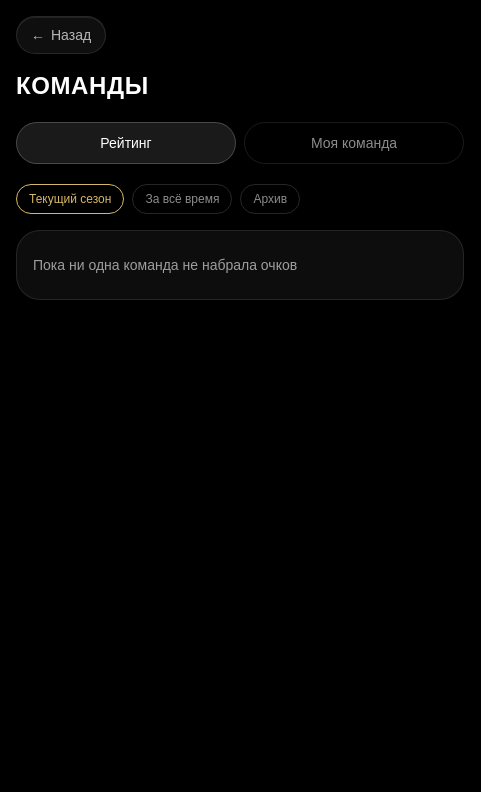
Test: Teams -- Моя команда tab, has a team › captain team-photo editing inside 'Изменить команду' › 3. existing avatar => shows 'Изменить фото' + 'Удалить фото'
Step 1. Click the button "Моя команда" → [354, 143], box x1=244 y1=122 x2=464 y2=164
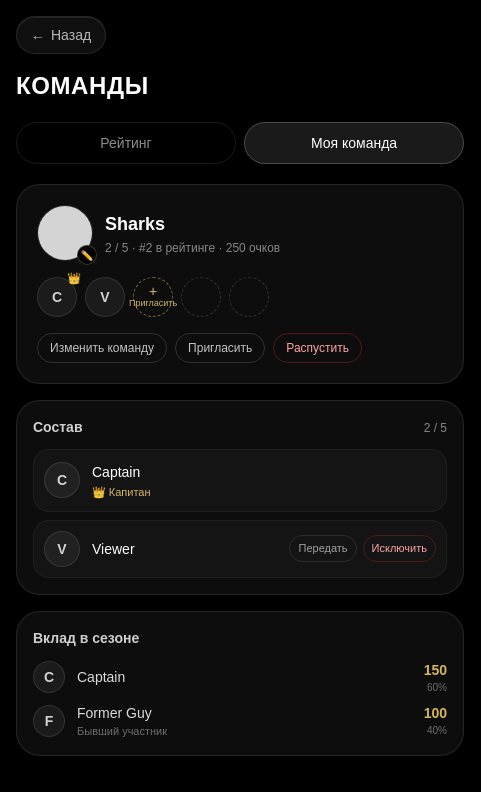
Step 2. Click the button "Изменить команду" → [102, 348], box x1=37 y1=333 x2=167 y2=363
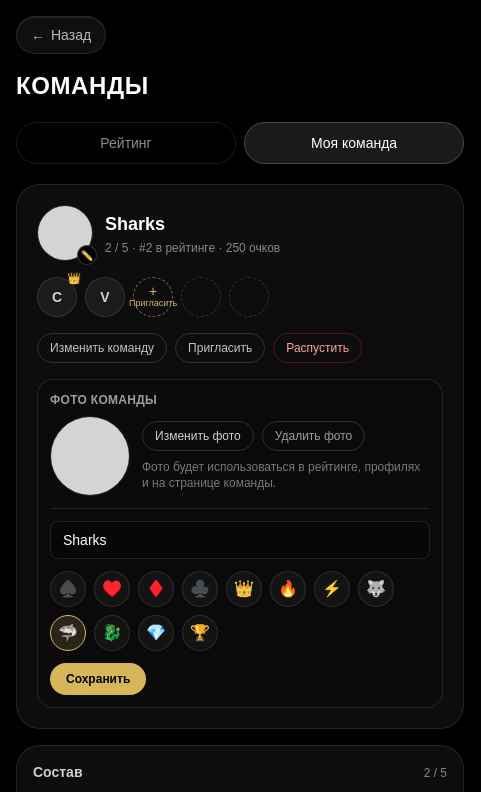
Now the text "Изменить фото" is shown, box x1=142 y1=421 x2=254 y2=451
Now the text "Удалить фото" is shown, box x1=262 y1=421 x2=365 y2=451
